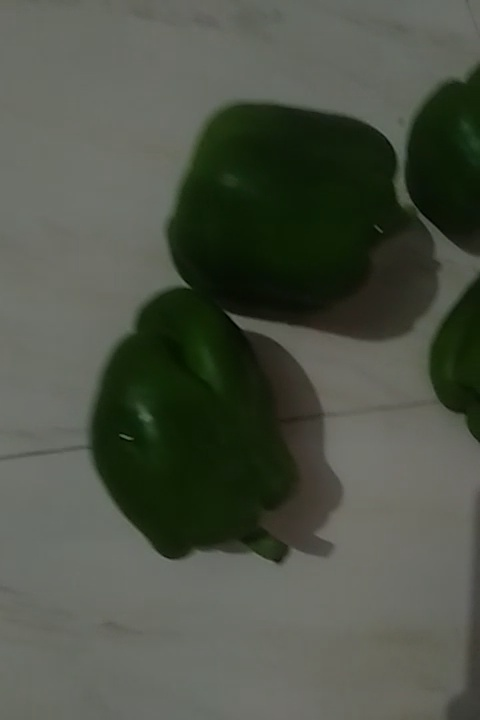capsicum: (86, 287, 305, 587), (157, 95, 401, 306), (396, 69, 480, 261), (412, 273, 480, 445)
